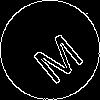M: (25, 25, 86, 86)
